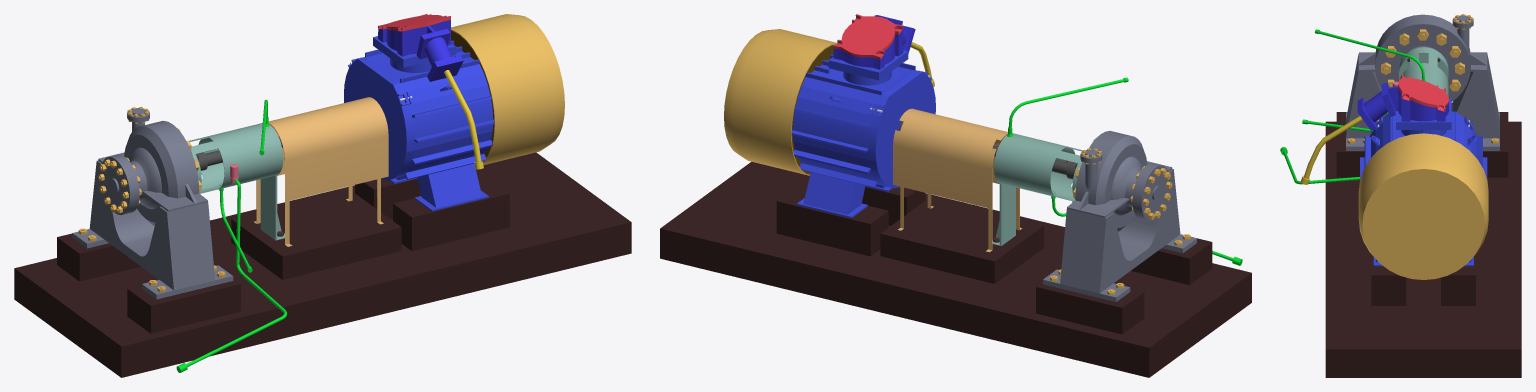
3 views of the same model, side by side, from view 1: azimuth 30°, elevation 25°; view 2: azimuth 150°, elevation 25°; view 3: azimuth 270°, elevation 25° (orthographic). The views are drawn at different scales.
Parts seen in each view (by area): view 1: meshId13, meshId12, meshId4, meshId1, meshId2, meshId10, meshId6, meshId9, meshId0, meshId7, meshId5; view 2: meshId13, meshId4, meshId12, meshId1, meshId2, meshId10, meshId5, meshId6, meshId0, meshId9; view 3: meshId13, meshId1, meshId12, meshId4, meshId6, meshId10, meshId0, meshId5, meshId9, meshId7.
Part boxes in pixels (x1,y1,x2,y2): meshId13: (14, 152, 631, 377); meshId12: (72, 108, 233, 299); meshId4: (344, 36, 494, 211); meshId1: (451, 14, 564, 164); meshId2: (254, 97, 388, 246); meshId10: (189, 123, 284, 240); meshId6: (378, 20, 463, 81); meshId9: (176, 99, 287, 372); meshId0: (78, 106, 225, 292); meshId7: (444, 70, 483, 169); meshId5: (378, 14, 450, 31); meshId13: (660, 161, 1251, 377); meshId4: (791, 50, 935, 218); meshId12: (1043, 131, 1196, 301); meshId1: (724, 29, 837, 175); meshId2: (893, 108, 1022, 252); meshId10: (992, 133, 1082, 245); meshId5: (833, 14, 903, 59); meshId6: (833, 15, 915, 69); meshId0: (1050, 138, 1190, 295); meshId9: (1007, 77, 1242, 265); meshId13: (1325, 112, 1521, 377); meshId1: (1358, 133, 1488, 279); meshId12: (1346, 14, 1499, 150); meshId4: (1360, 99, 1487, 266); meshId6: (1357, 82, 1449, 130); meshId10: (1398, 47, 1448, 96); meshId0: (1347, 14, 1498, 143); meshId5: (1398, 73, 1448, 111); meshId9: (1280, 29, 1425, 184); meshId7: (1300, 116, 1362, 184).
Bounding box in the file's own units: 2 × 0.9079 × 0.8957.
